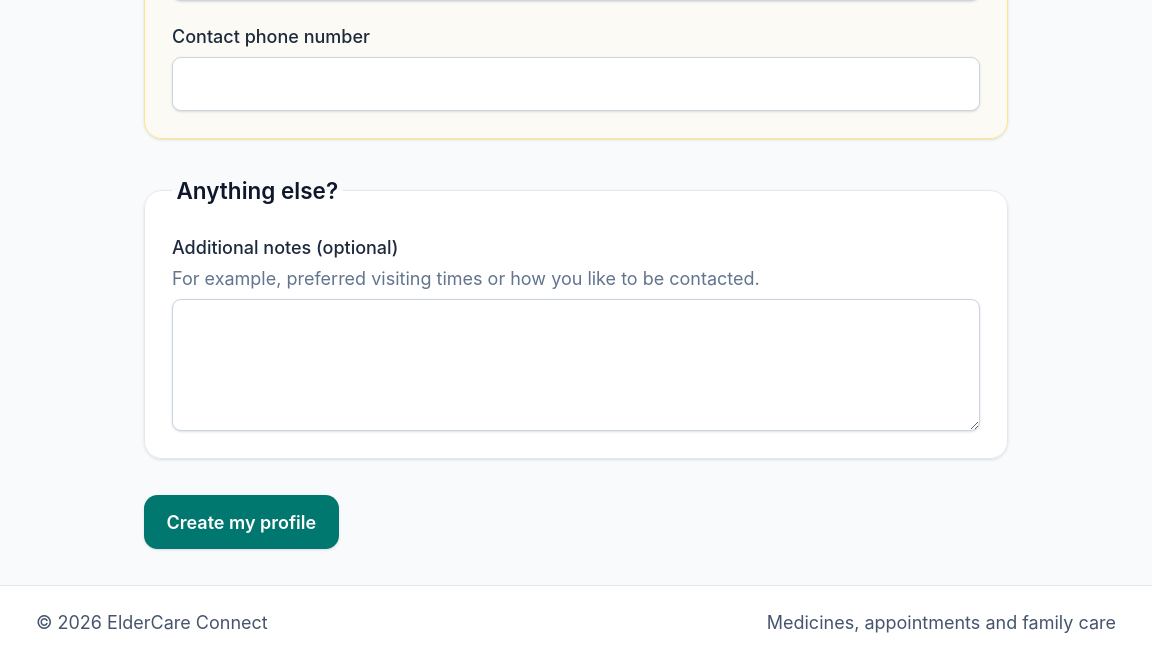
elderly profile › validates required fields before saving
(page scrolled)
Click the button "Create my profile": point(241, 522) [144,495,339,549]
(page scrolled)
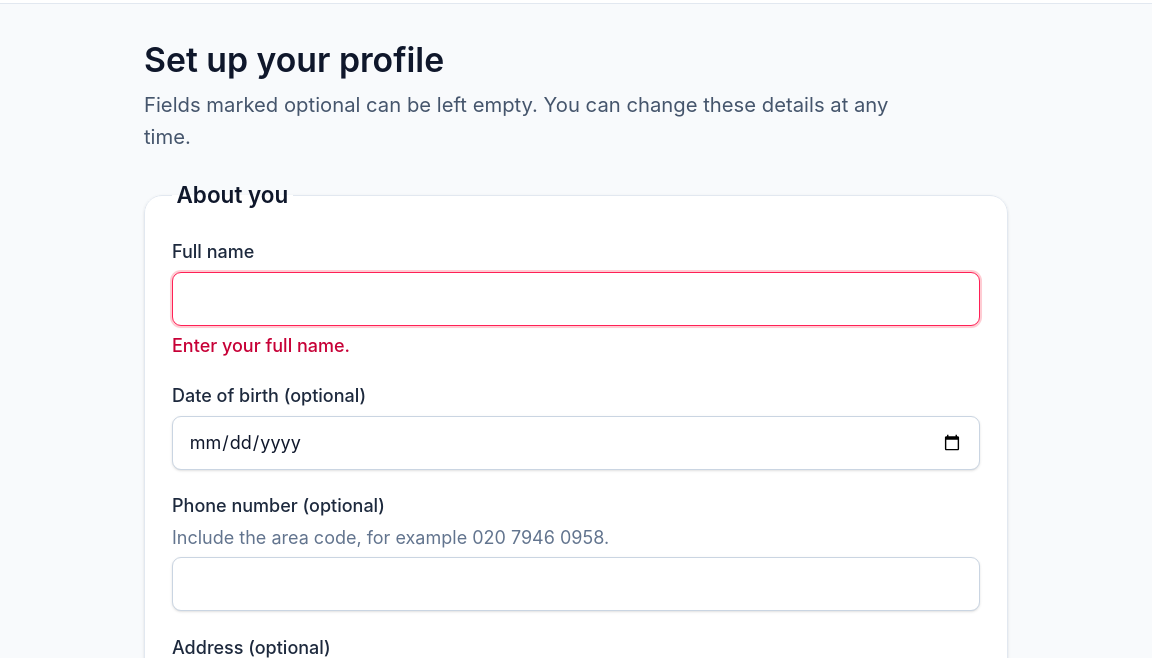
Result: the text "Enter your full name." is shown at [172,335,350,356]
